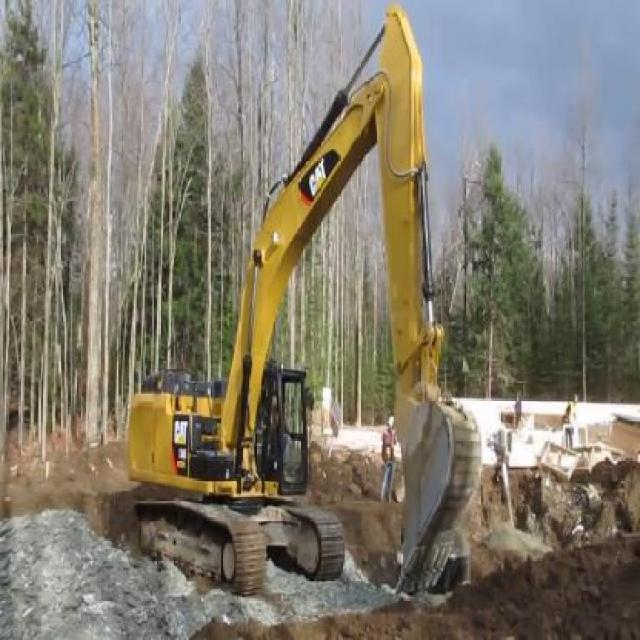Excavator: (111, 0, 483, 617)
